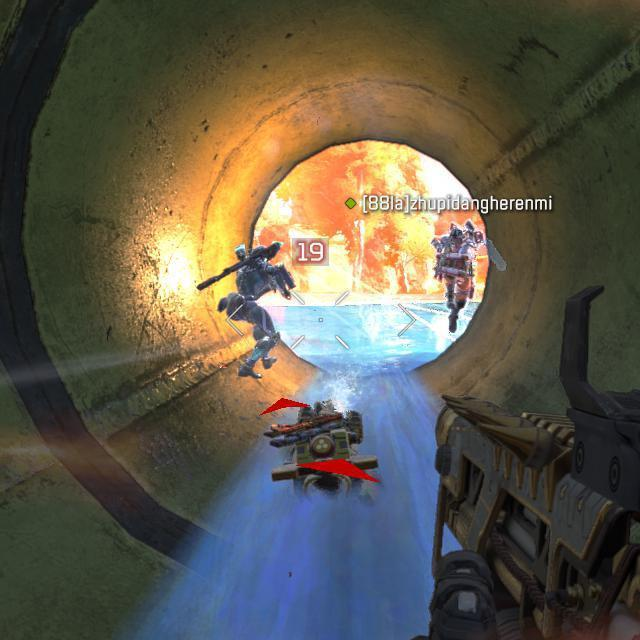avatar: (216, 240, 296, 377), (431, 222, 483, 333)
